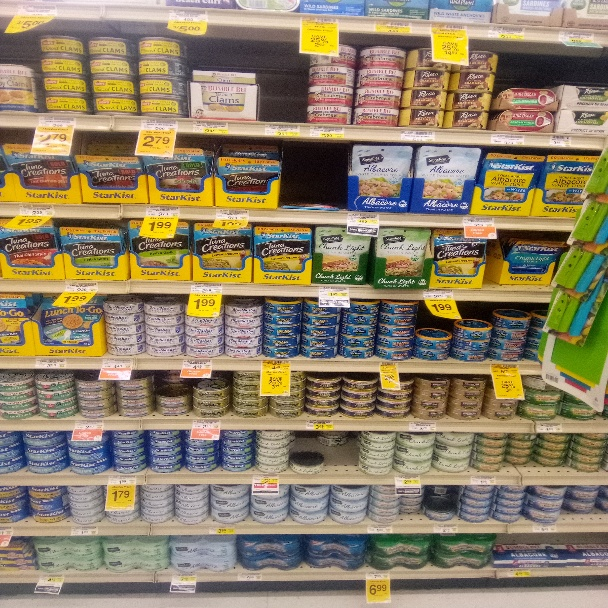All PRICE TAGS: (169, 9, 208, 23), (490, 26, 527, 40), (302, 15, 338, 29), (17, 4, 58, 16), (38, 115, 75, 128), (375, 20, 411, 33), (559, 30, 595, 43), (19, 204, 54, 217), (142, 119, 178, 131), (193, 121, 229, 133), (265, 124, 301, 136), (401, 130, 435, 142), (65, 281, 98, 293), (433, 23, 466, 35), (347, 213, 379, 225), (311, 125, 343, 137), (216, 209, 249, 220), (34, 358, 67, 369), (101, 359, 134, 370), (491, 134, 524, 145), (423, 289, 453, 300), (190, 284, 223, 294), (147, 207, 179, 217), (182, 359, 213, 369), (262, 359, 290, 370), (75, 419, 103, 430), (305, 419, 334, 429), (491, 365, 520, 375), (408, 420, 436, 430), (108, 475, 136, 485), (191, 419, 222, 428), (318, 287, 349, 296), (394, 475, 421, 485), (70, 527, 99, 536), (237, 571, 263, 581), (366, 523, 392, 533), (471, 474, 497, 484), (209, 524, 235, 534), (537, 422, 563, 432), (462, 218, 494, 226), (252, 474, 279, 483), (551, 135, 572, 146), (433, 523, 458, 532), (39, 574, 64, 583), (172, 574, 197, 583), (365, 571, 389, 580), (532, 523, 556, 532), (508, 569, 531, 577), (379, 362, 398, 371), (0, 526, 13, 536)
